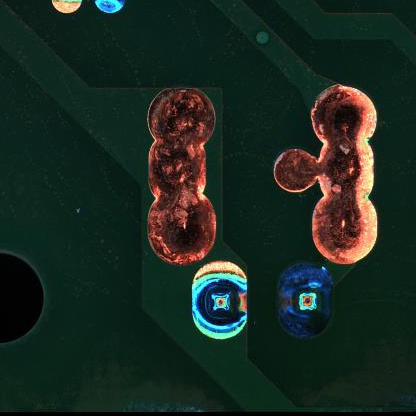spot: (276, 261, 336, 340), (193, 261, 248, 340)
